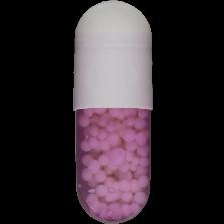62175-485: (0, 0, 224, 224)
